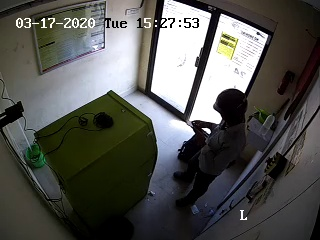helmet: (210, 90, 252, 133)
